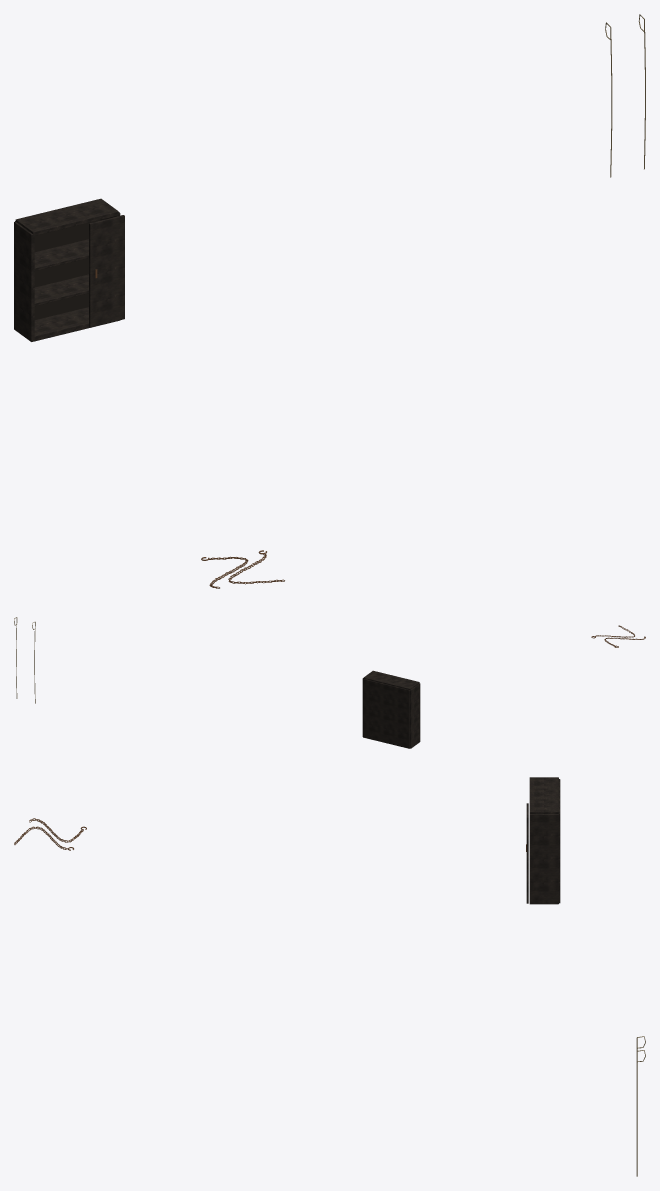
File: clues-initial.glb
3 renders of one model, top to bottom at view 1: azimuth 30°, elevation 25°; view 2: azimuth 150°, elevation 25°; view 3: azimuth 270°, elevation 25°, orthographic. The views are drawn at different scales.
Visible parts, largest first — view 1: Old cupboard back, Cupboard shadow backing; view 2: Old cupboard back, Loose iron link, Well descending rope 1; view 3: Old cupboard back.
Boxes of the visible parts, <box> form: Old cupboard back: <box>14,198,124,341</box>; Cupboard shadow backing: <box>34,220,100,319</box>; Old cupboard back: <box>362,670,420,748</box>; Loose iron link: <box>591,625,645,647</box>; Well descending rope 1: <box>14,617,35,703</box>; Old cupboard back: <box>526,777,560,904</box>.
Bounding box in the file's own units: 12.54 × 2.29 × 10.34.
4 materials, 1 textured.
